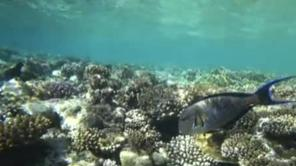Acanthuridae -Surgeonfishes-: (177, 73, 296, 135)
